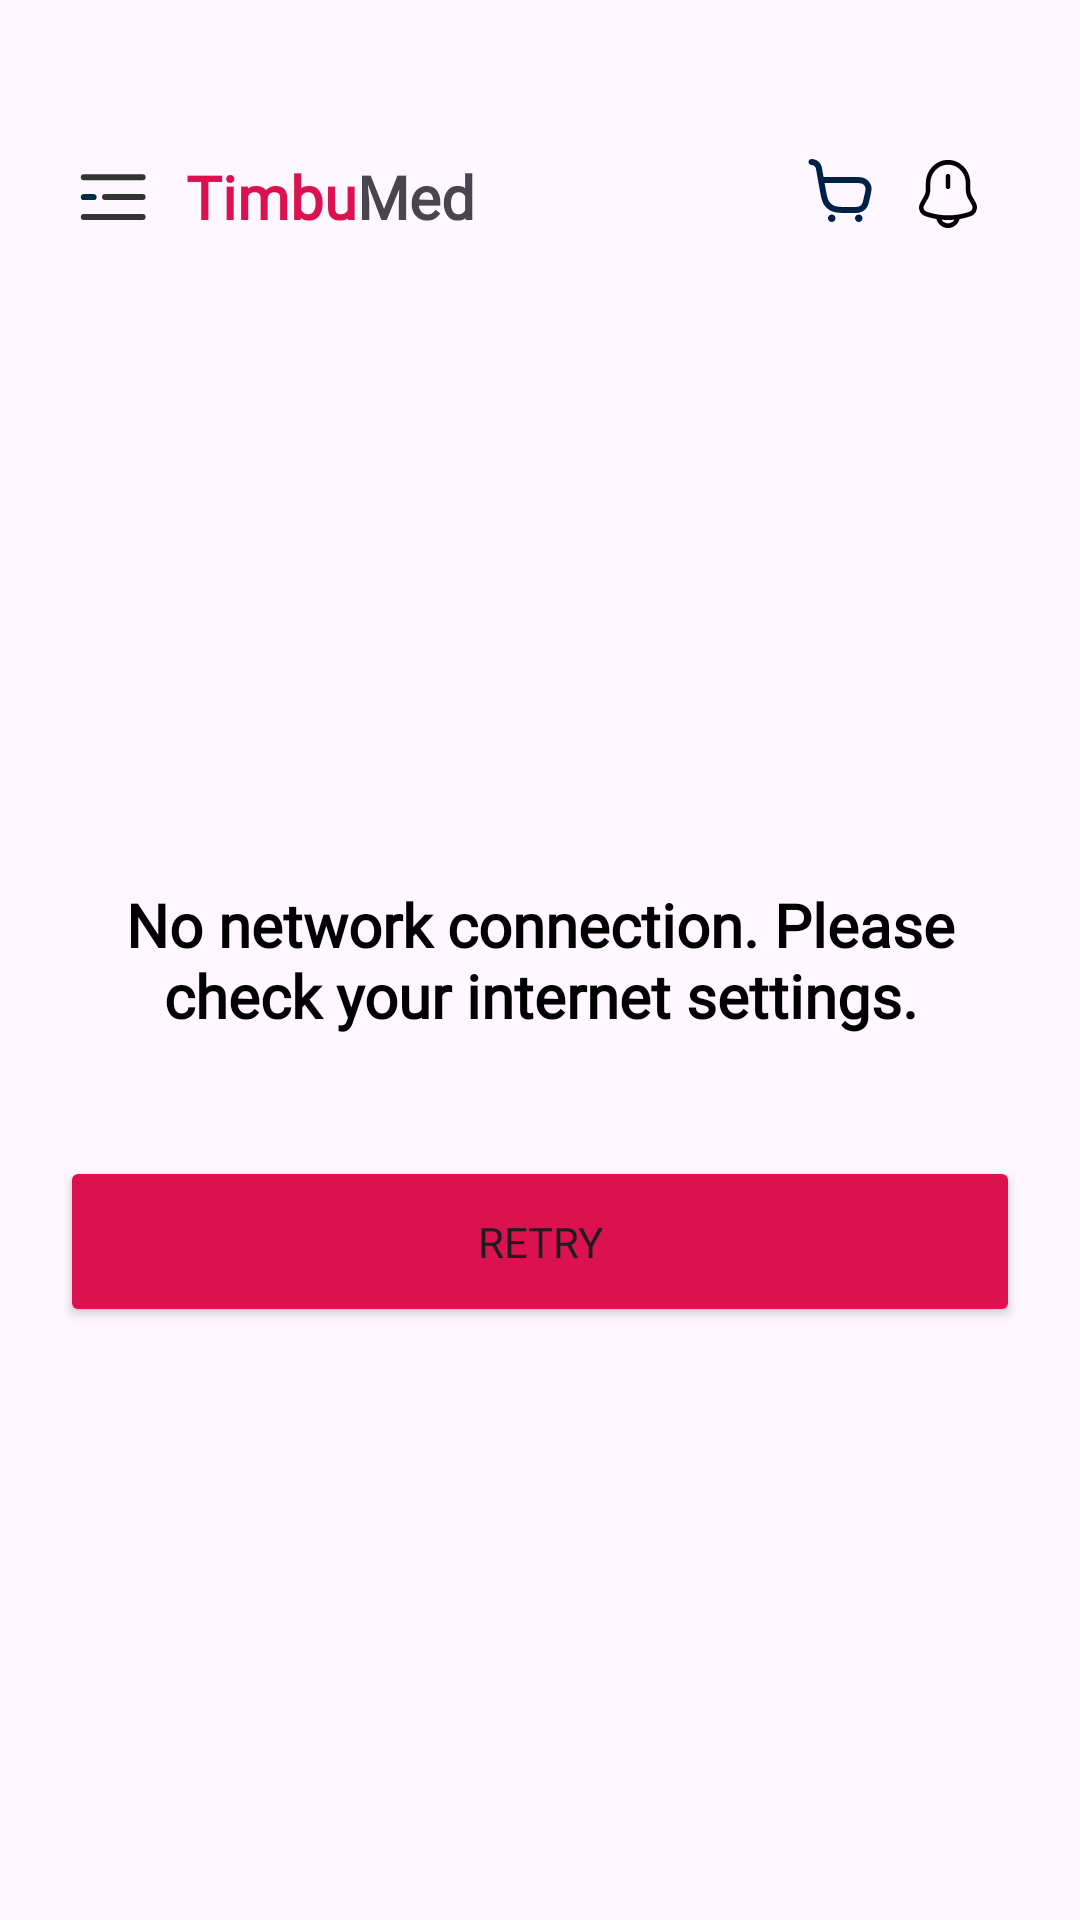

Icons on this 1080px x 1920px Android screen, each with its box as (x1, y1, x2, y2):
menu: (80, 174, 146, 220)
notification bing: (919, 160, 977, 228)
